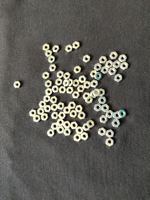nut: (112, 120, 121, 128), (106, 130, 115, 138), (106, 138, 114, 147), (100, 115, 108, 124), (102, 104, 110, 113), (94, 104, 103, 112), (87, 120, 95, 129), (119, 55, 127, 63), (121, 62, 129, 70), (115, 74, 123, 82), (114, 61, 122, 69), (110, 52, 118, 60), (106, 60, 114, 68), (100, 56, 108, 64), (91, 80, 99, 88), (119, 110, 127, 118), (99, 128, 107, 136), (99, 97, 107, 105), (83, 124, 91, 132), (81, 133, 89, 141), (76, 127, 84, 135), (74, 134, 82, 142), (78, 112, 86, 120), (70, 110, 78, 118), (71, 122, 79, 130), (57, 119, 65, 127), (33, 115, 41, 123), (107, 110, 114, 119), (73, 41, 80, 50), (109, 68, 117, 75), (114, 112, 121, 120), (98, 89, 105, 97), (94, 89, 101, 97), (91, 91, 98, 99), (86, 97, 94, 104), (83, 93, 91, 100), (84, 81, 91, 89), (84, 55, 91, 63), (66, 45, 73, 53), (79, 76, 87, 83), (78, 85, 86, 92), (73, 79, 80, 87), (74, 66, 81, 74), (76, 105, 83, 113), (63, 122, 71, 129), (64, 129, 72, 136), (57, 127, 65, 134), (52, 123, 59, 131), (48, 129, 55, 137), (59, 112, 66, 120), (59, 87, 67, 94), (53, 45, 60, 53), (49, 65, 57, 72), (56, 78, 63, 86), (52, 86, 60, 93), (45, 80, 52, 88), (46, 88, 53, 96), (51, 104, 58, 112), (52, 112, 59, 120), (44, 95, 51, 103), (44, 105, 51, 113), (41, 114, 49, 121), (39, 101, 47, 108), (102, 67, 109, 74), (95, 64, 102, 71), (95, 73, 102, 80), (91, 71, 98, 78), (73, 92, 80, 99), (69, 102, 76, 109), (64, 107, 71, 114), (67, 87, 74, 94), (64, 73, 71, 80), (63, 80, 70, 87), (43, 44, 50, 51), (43, 72, 50, 79), (58, 103, 65, 110), (51, 97, 58, 104), (38, 108, 45, 115), (30, 110, 37, 117), (14, 81, 21, 88), (68, 79, 74, 87), (49, 56, 55, 64), (58, 71, 64, 79), (46, 50, 52, 57)
